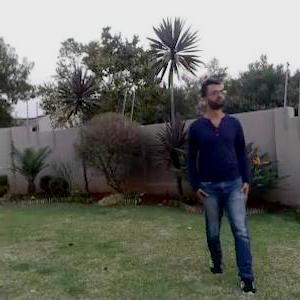follow: (182, 41, 262, 294)
